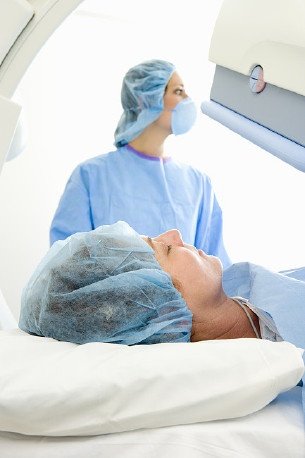Mask: (141, 75, 200, 134)
